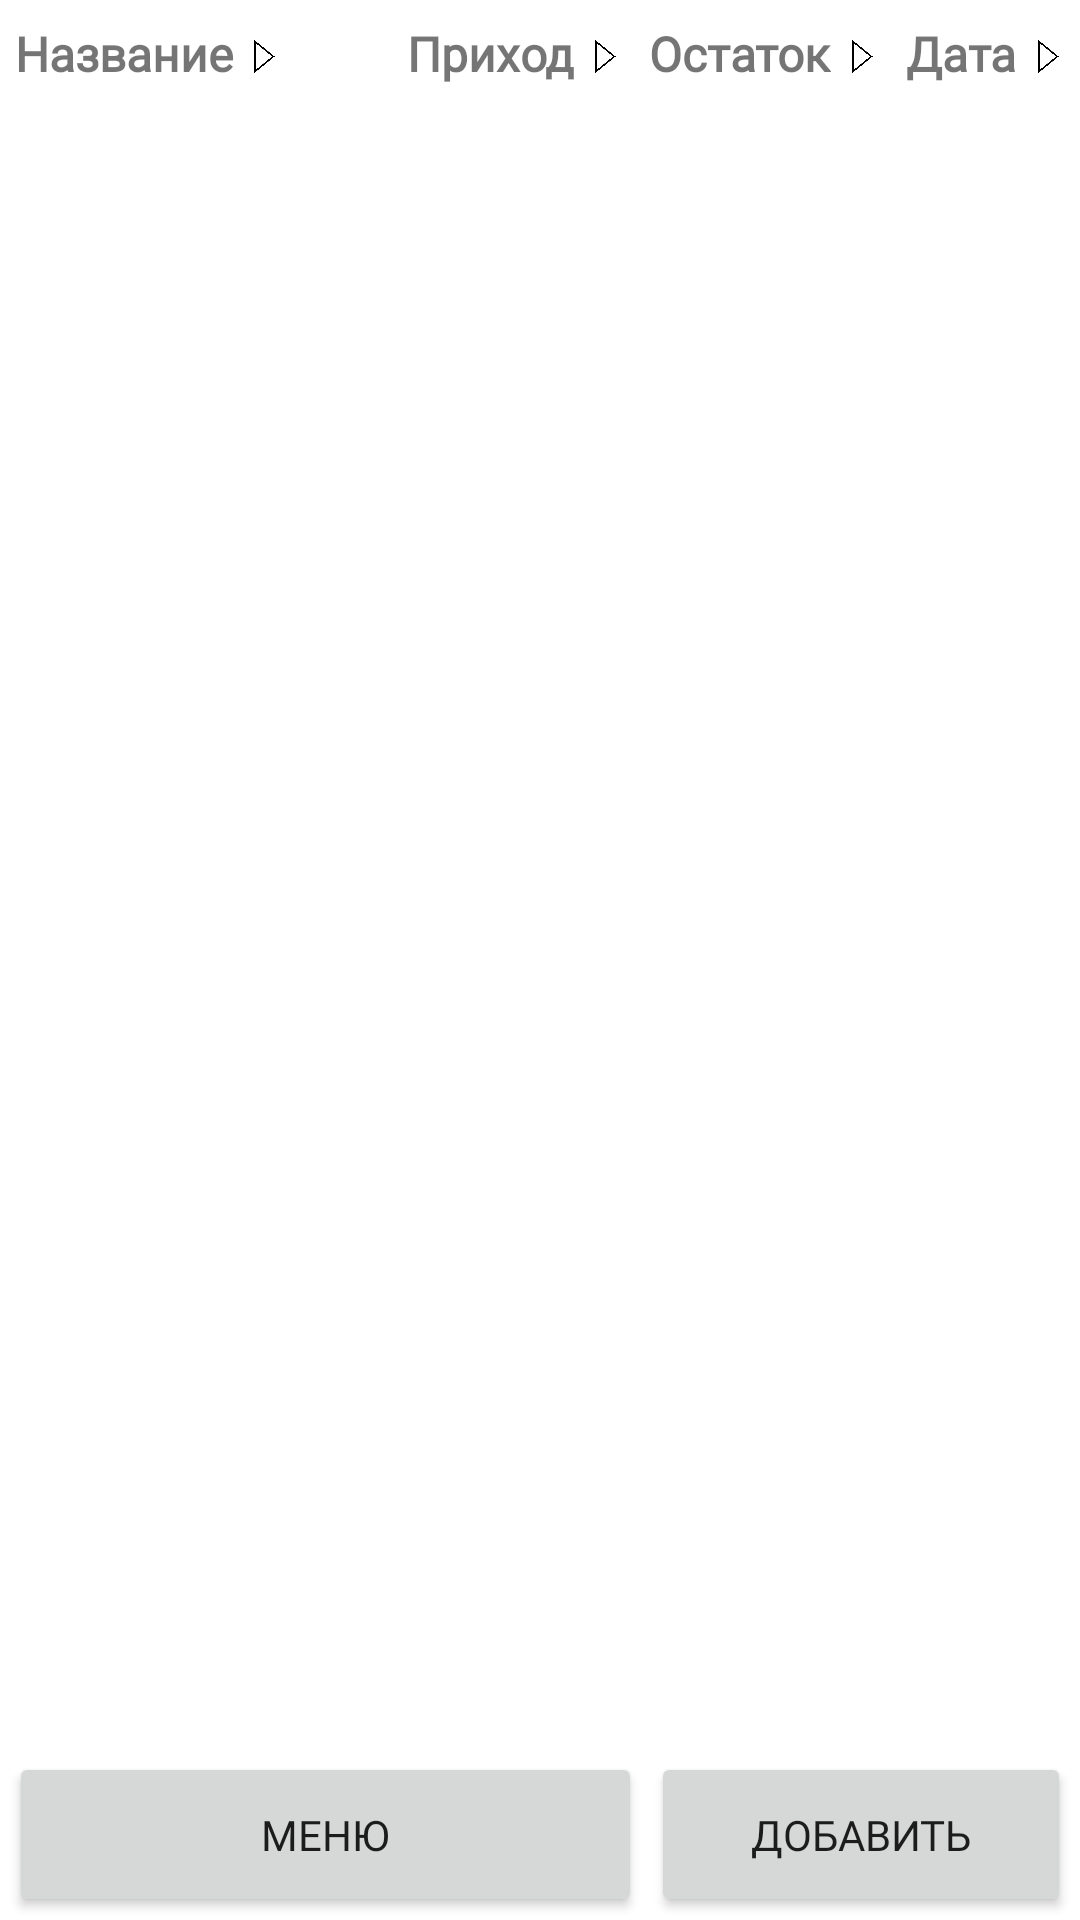

Icon click points for this 1080*1920 phone screenshot, format [x,y]:
треугольник для отображения столбца сортировки: [264,56], [605,56], [862,56], [1048,56]
